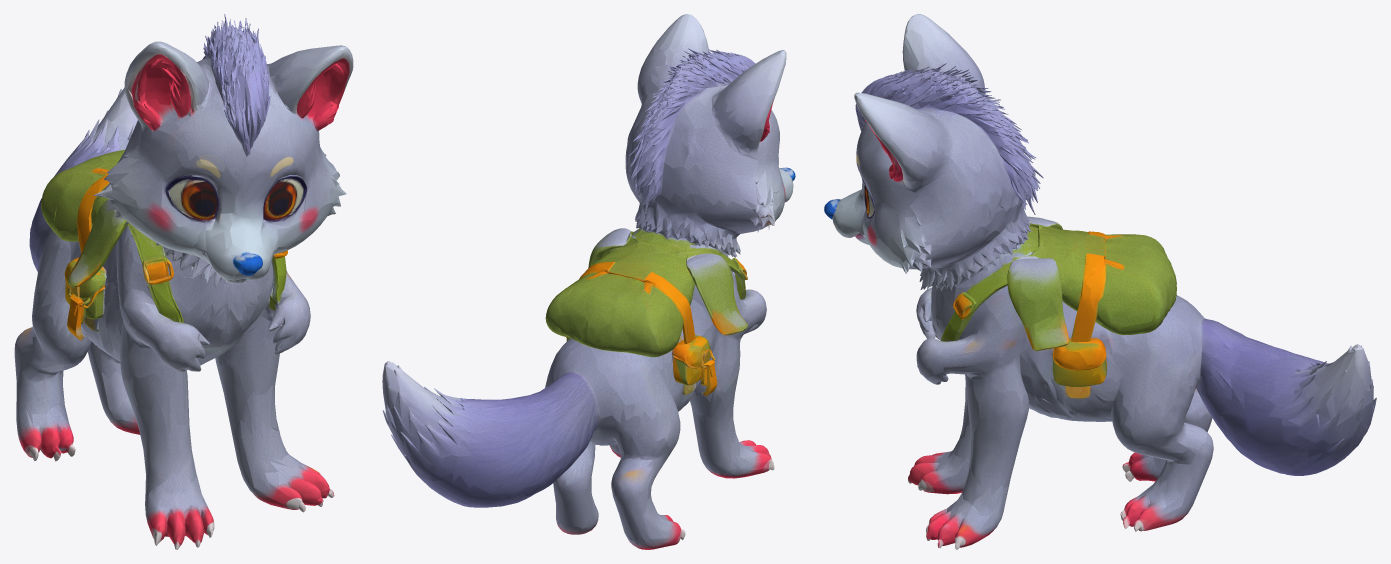
The model's file is wren-the-wandering-pup-v2.glb.
The picture shows the model from 3 angles, left to right: view 1: azimuth 30°, elevation 25°; view 2: azimuth 150°, elevation 25°; view 3: azimuth 270°, elevation 25°; orthographic projection. The views are drawn at different scales.
Bounding box in the file's own units: 0.9573 × 1.72 × 1.89.
1 material, 1 textured.
